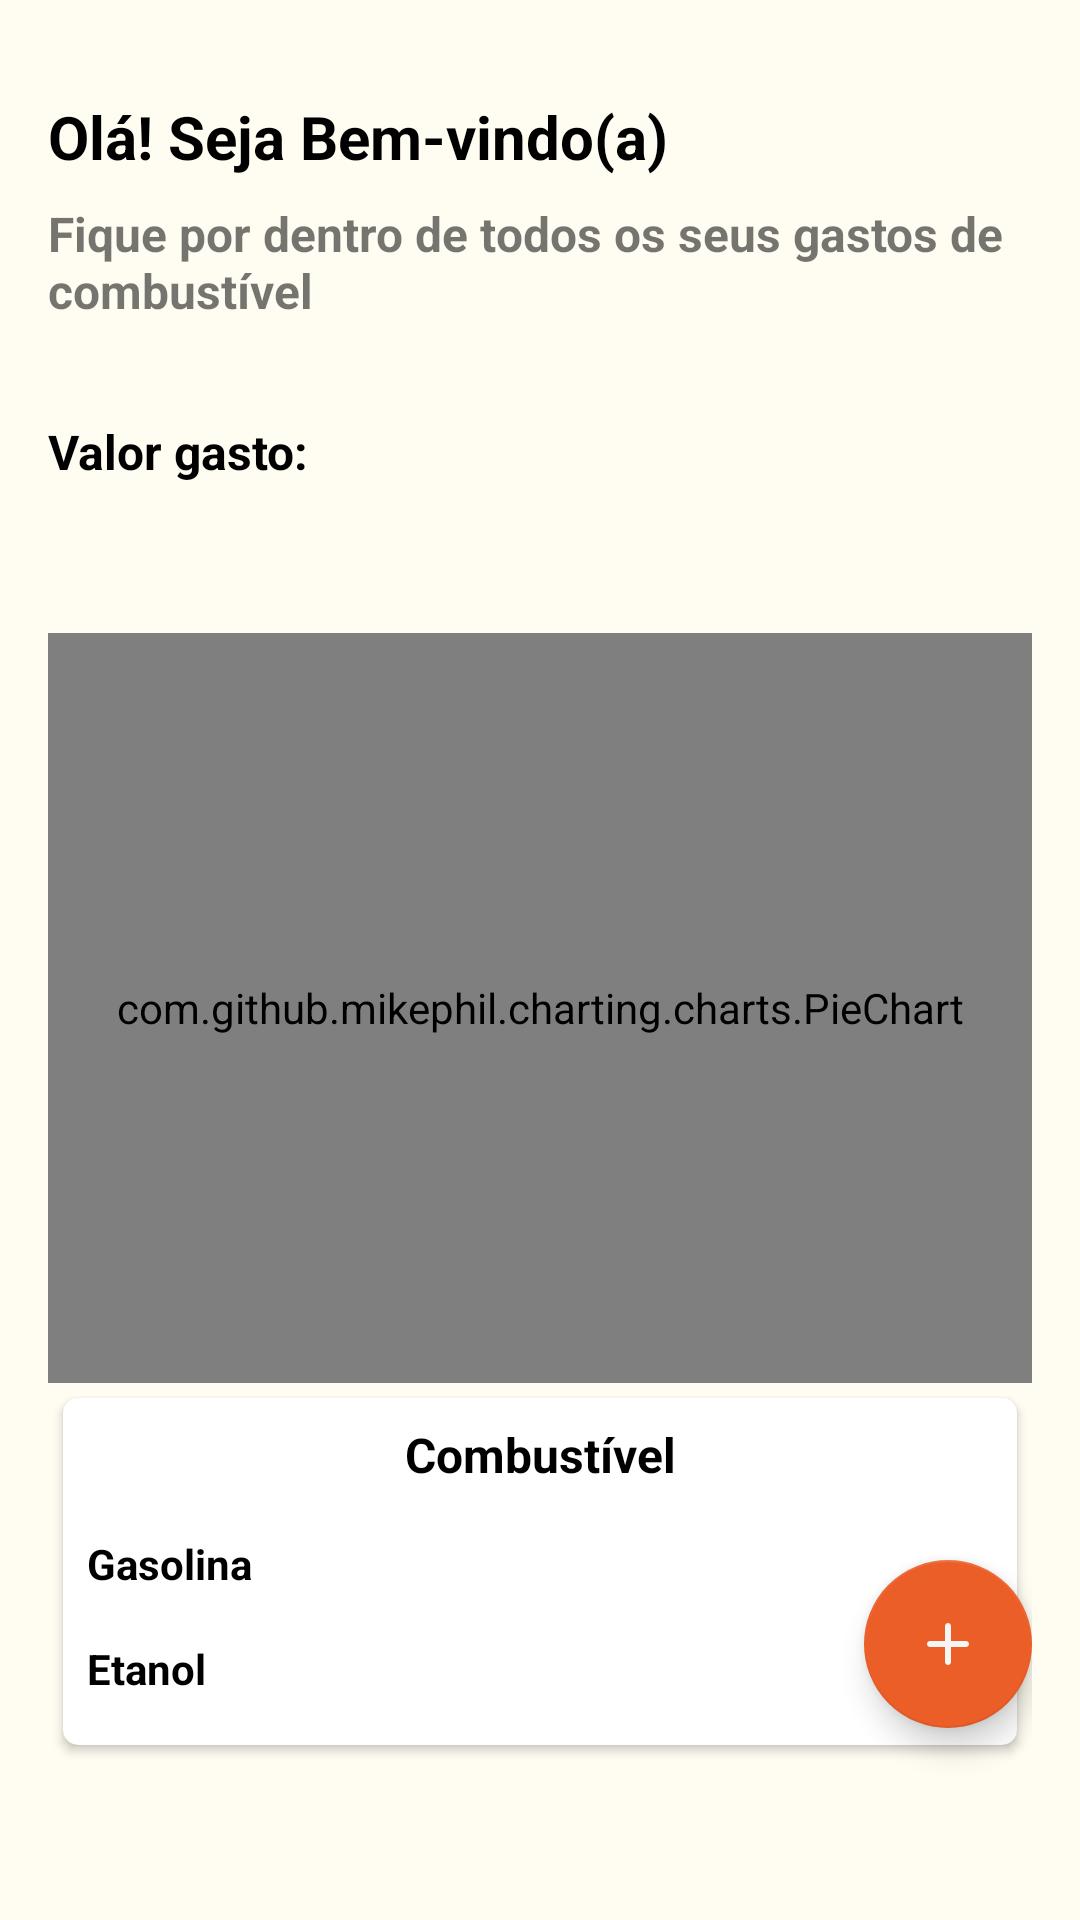

Named icons in this screenshot (1080×1920) and their centers, point (x, y):
add: point (948, 1644)
